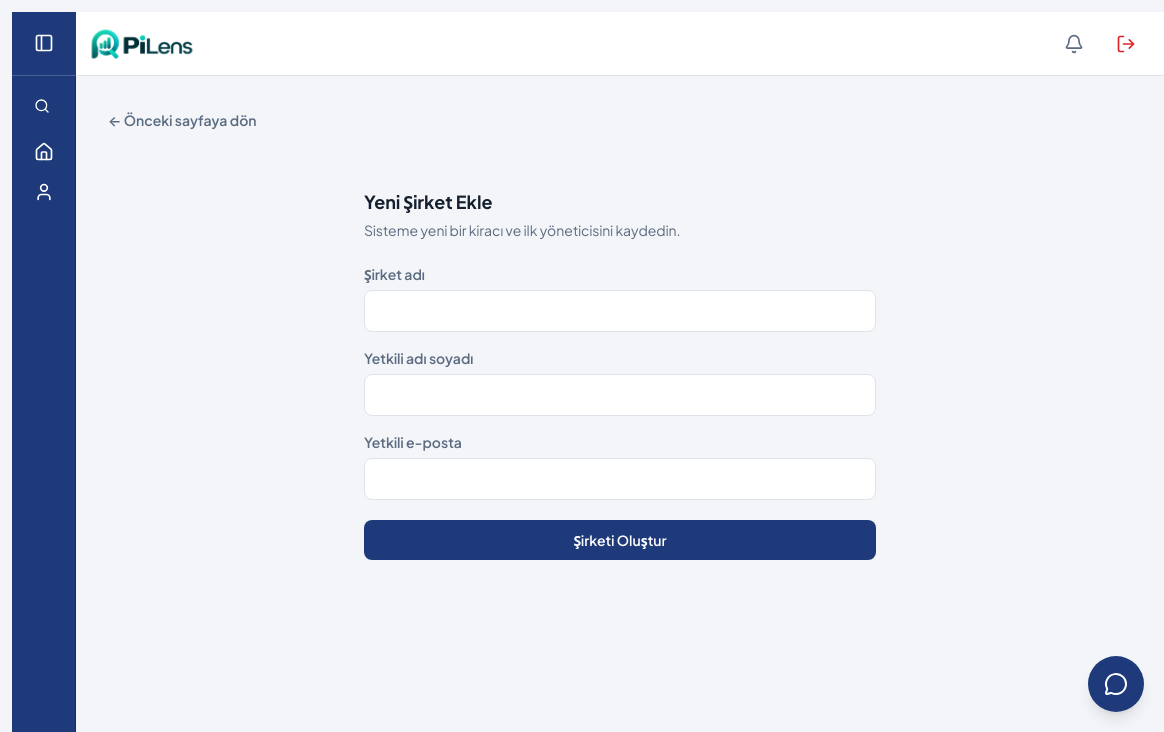
Test: NewCustomerPage › formu doldurup gonderince uretilen gecici sifreyi gosterir
This screenshot has width=1164, height=732.
Type "Yeni Musteri A.S." into the field labelled "Şirket adı".
click(620, 311); type("Yeni Musteri A.S.")  # box [364,290,876,332]
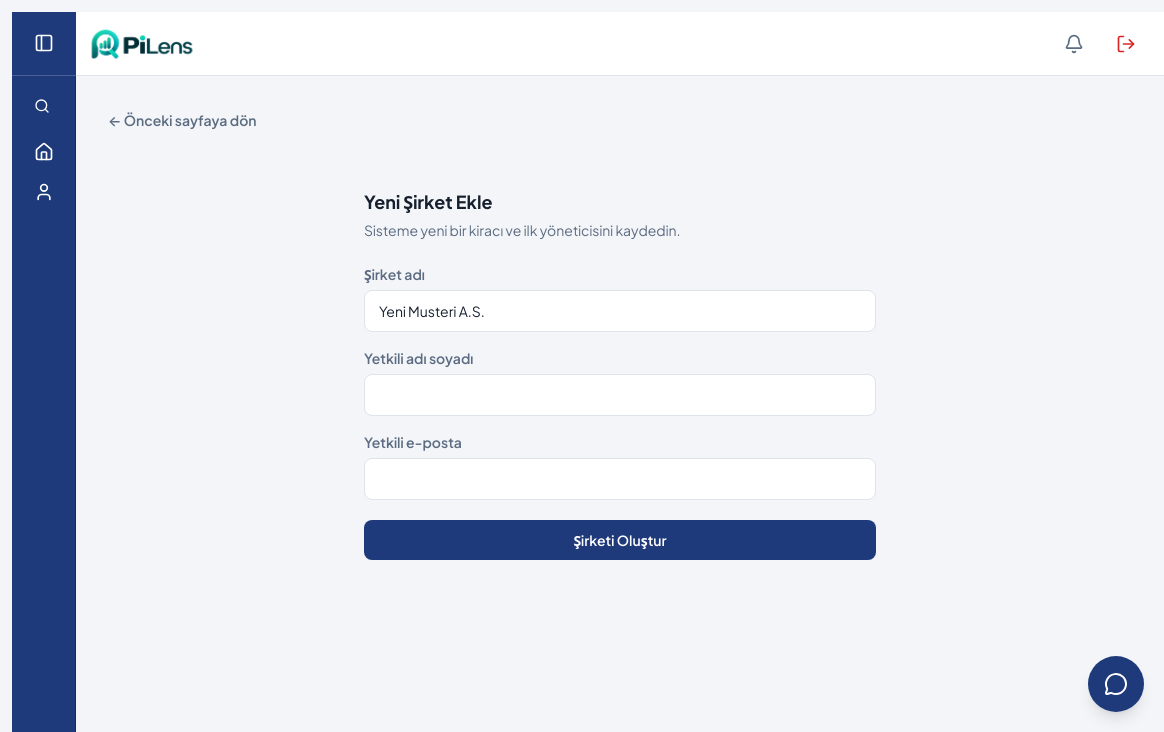
Type "Yetkili Kisi" into the field labelled "Yetkili adı soyadı".
click(620, 395); type("Yetkili Kisi")  # box [364,374,876,416]
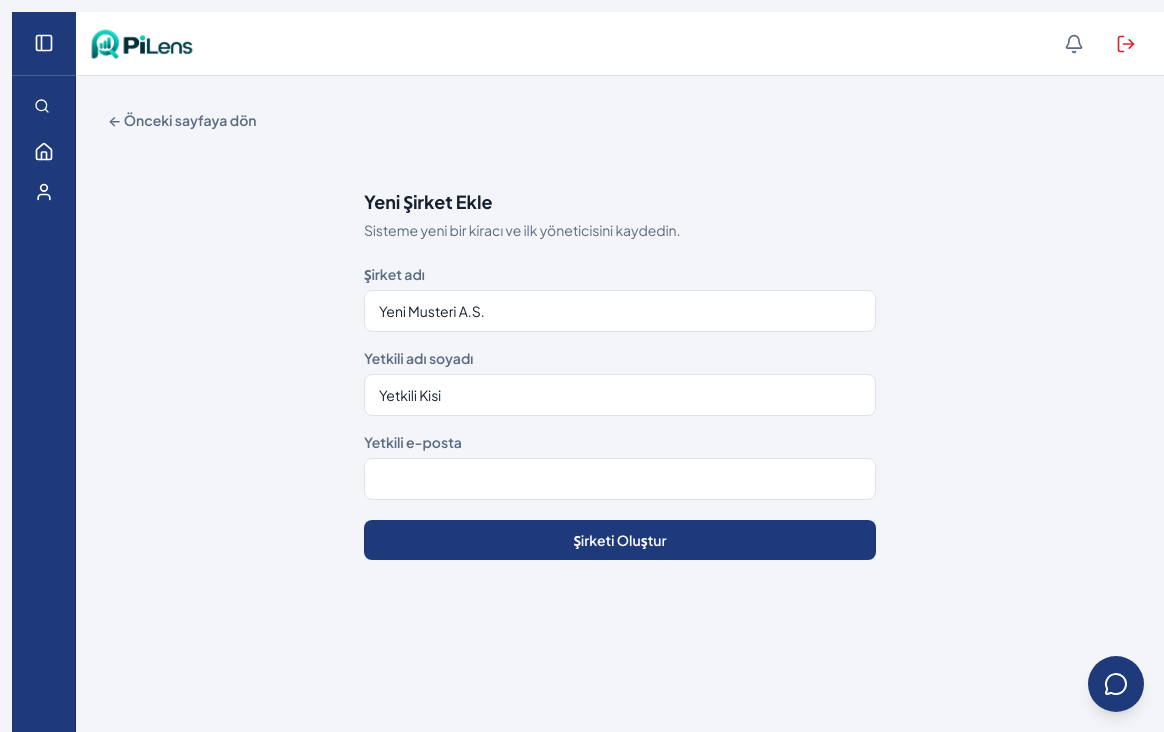
Type "yetkili@yenimusteri.com" into the field labelled "Yetkili e-posta".
click(620, 479); type("yetkili@yenimusteri.com")  # box [364,458,876,500]
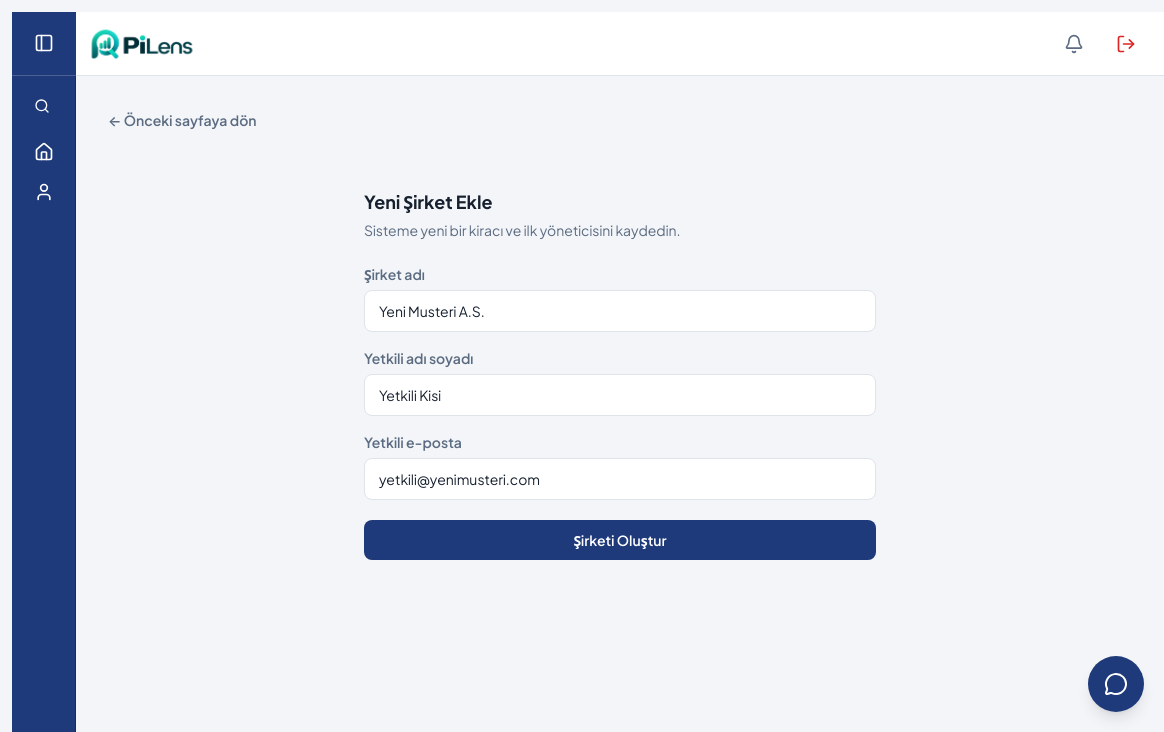
Click the button "Şirketi Oluştur".
click(620, 540)  # box [364,520,876,560]
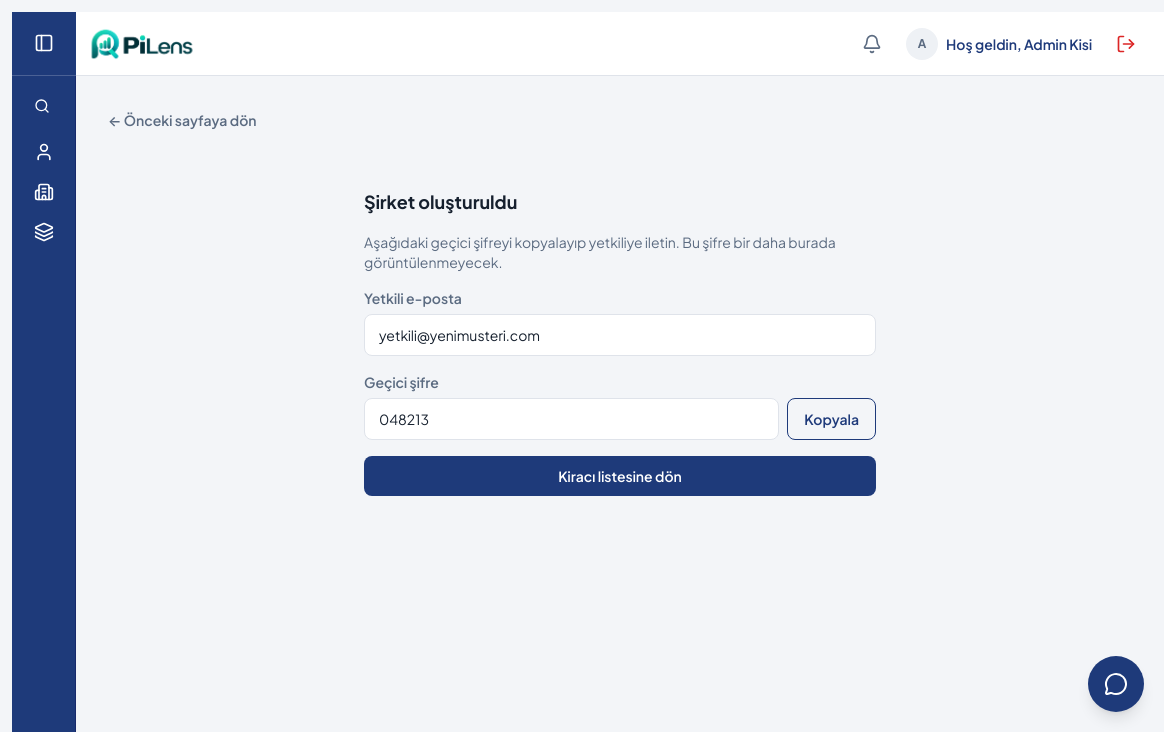
Check: the field showing "048213" is shown, box [364,398,779,440]
Check: the field showing "yetkili@yenimusteri.com" is shown, box [364,314,876,356]
